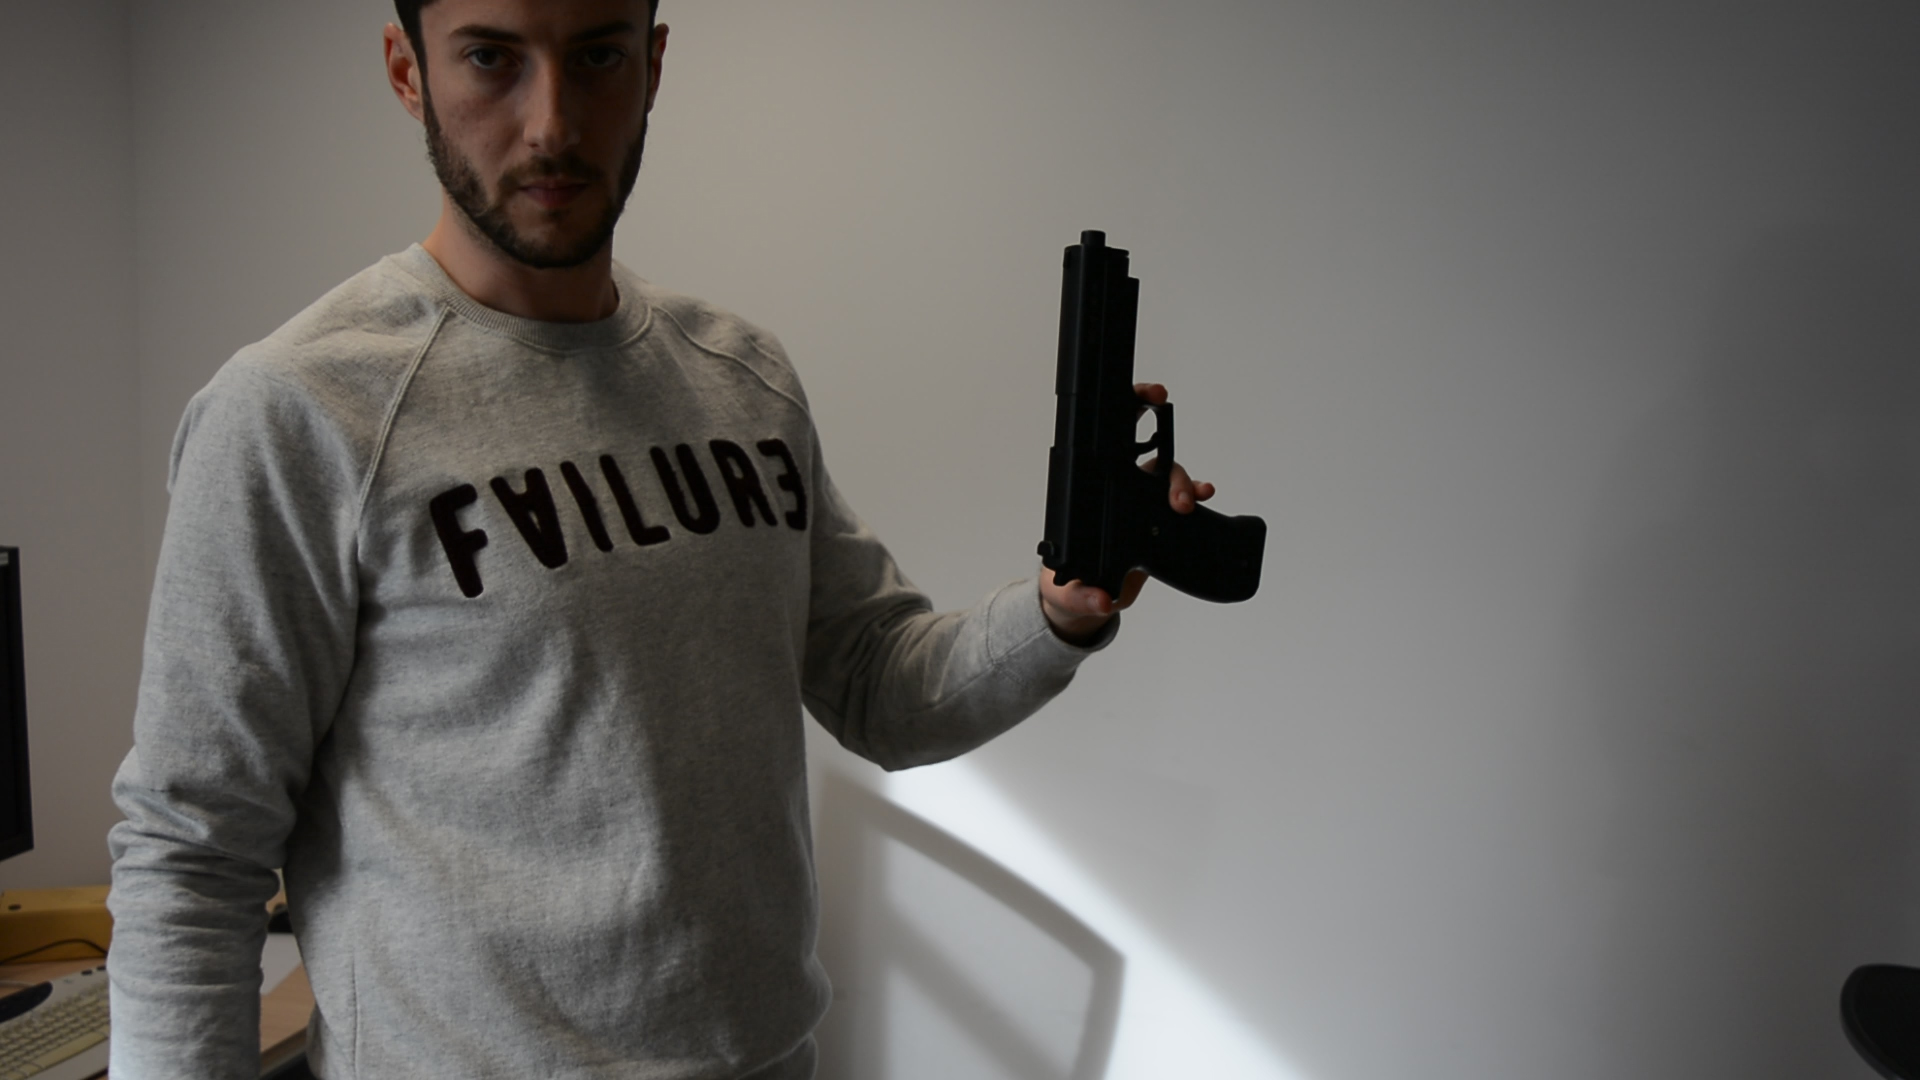pistol: (1035, 227, 1269, 607)
